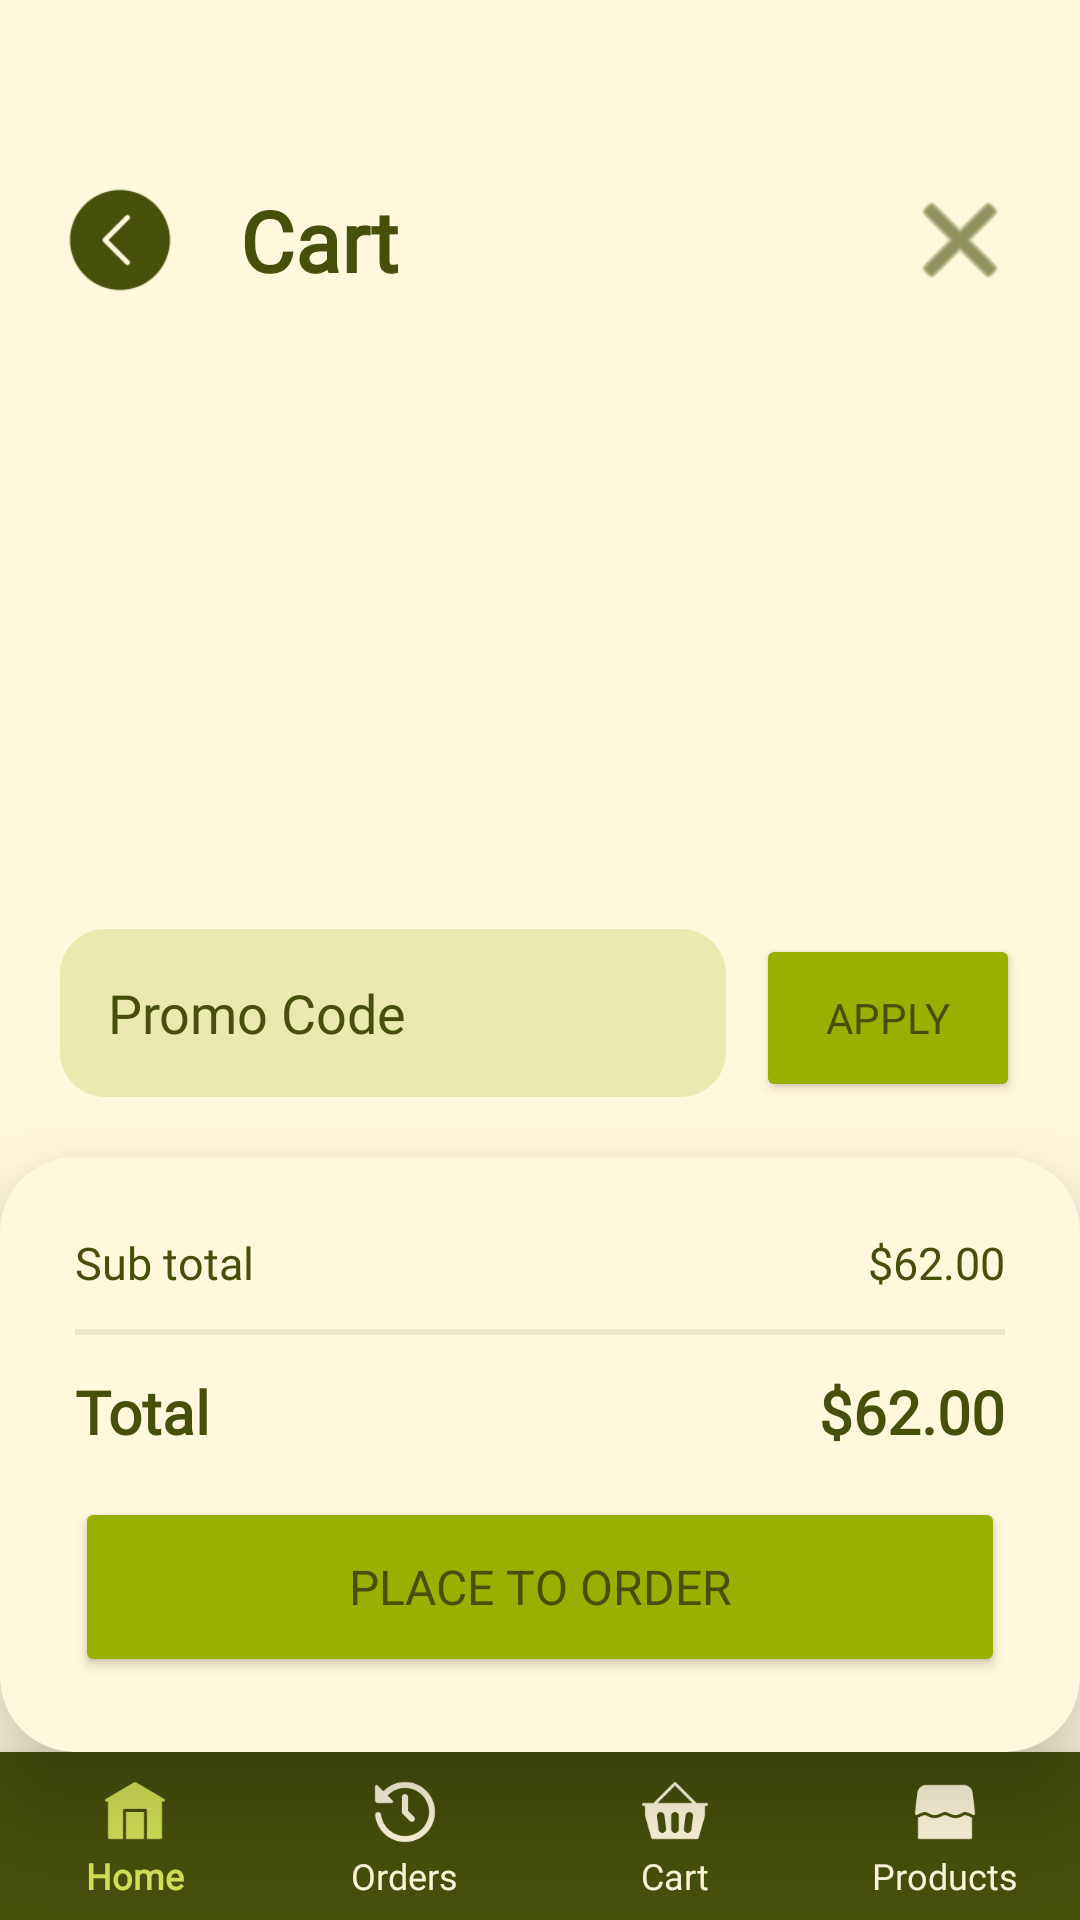

Screen size 1080×1920. Icon name, then its box in pixels as (x1, y1, x2, y2):
Back: (69, 189, 171, 291)
Close: (922, 202, 998, 278)
